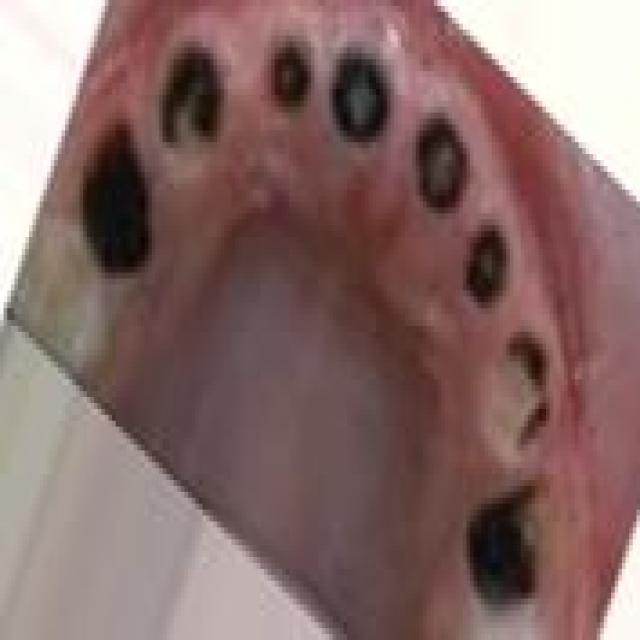caries: (77, 109, 160, 281), (460, 477, 558, 620), (480, 326, 563, 456), (409, 90, 480, 220), (323, 24, 393, 150), (155, 45, 229, 162), (457, 208, 522, 324), (255, 9, 318, 119)
